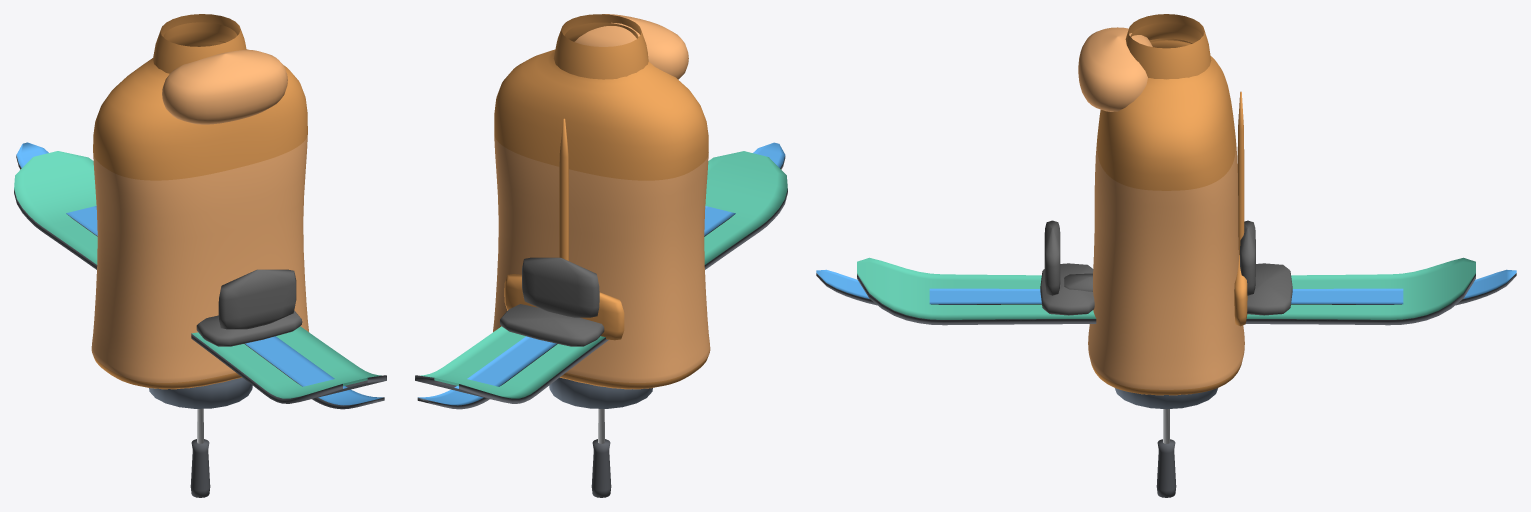
File: rider.glb
3 renders of one model, left to right at view 1: azimuth 30°, elevation 25°; view 2: azimuth 150°, elevation 25°; view 3: azimuth 270°, elevation 25°, orthographic.
Parts seen in each view (by area): view 1: jacket, board, hood, ski, collar, thigh, pole; view 2: jacket, board, collar, ski, hood, thigh, pocket, zip, pole; view 3: jacket, board, ski, hood, collar, pole, thigh, zip.
Boxes of the visible parts, x1,y1,x2,y2 form: jacket: [91, 22, 308, 389]; board: [14, 151, 386, 403]; hood: [162, 49, 287, 124]; ski: [16, 142, 384, 409]; collar: [152, 14, 246, 73]; thigh: [149, 377, 252, 408]; pole: [190, 408, 210, 497]; jacket: [493, 22, 710, 389]; board: [415, 151, 787, 403]; collar: [553, 14, 648, 79]; ski: [417, 142, 785, 409]; hood: [574, 14, 688, 79]; thigh: [549, 377, 652, 408]; pocket: [504, 274, 624, 340]; zip: [559, 118, 568, 260]; pole: [591, 409, 611, 497]; jacket: [1088, 23, 1244, 395]; board: [857, 220, 1475, 325]; ski: [816, 269, 1516, 305]; hood: [1078, 27, 1152, 111]; collar: [1125, 14, 1211, 79]; pole: [1156, 409, 1176, 497]; thigh: [1115, 388, 1217, 409]; zip: [1237, 91, 1244, 254].
Bounding box in the file's own units: 0.554 × 1.25 × 1.72.
